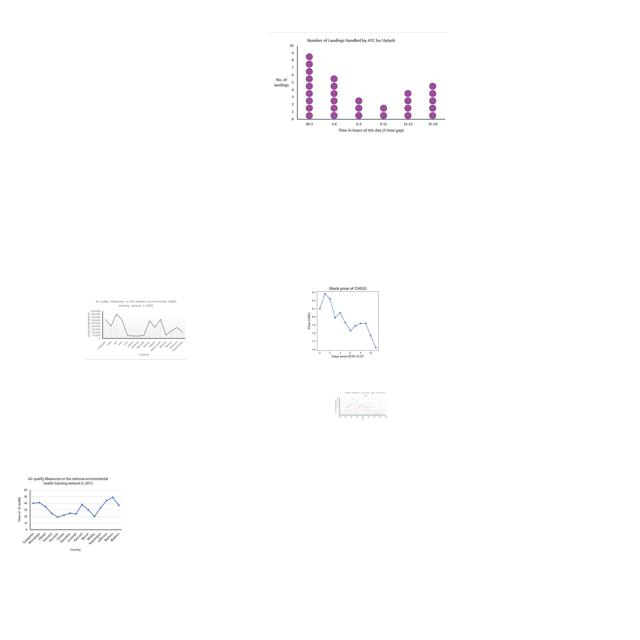Graph: (268, 32, 449, 138), (13, 475, 123, 553), (295, 282, 398, 359), (85, 298, 187, 360), (334, 390, 388, 421)
